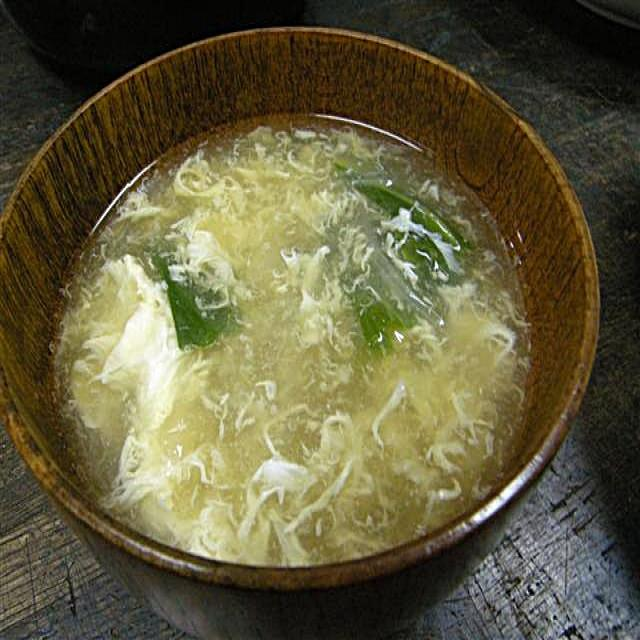汤锅炖物: (0, 8, 614, 640)
